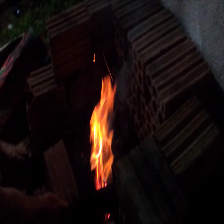fire_h: (90, 76, 113, 190)
fire_l: (93, 53, 96, 62), (106, 213, 110, 218)
